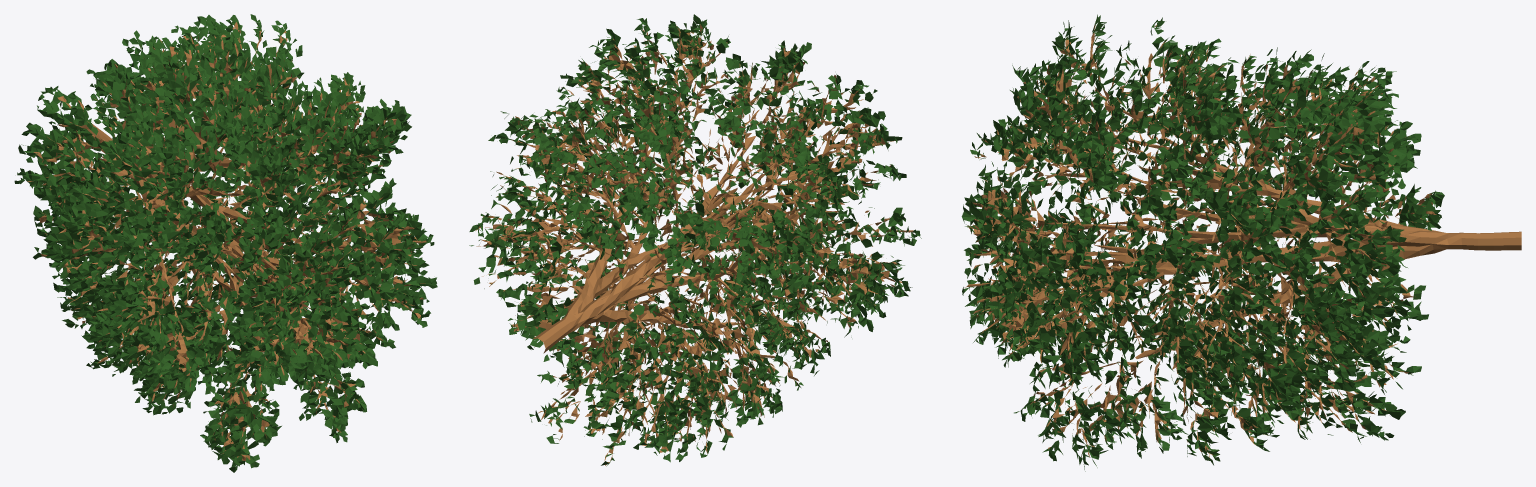
Rendered from lowpoly_tree_model_optimized_scaled.glb.
3 renders of one model, left to right at view 1: azimuth 30°, elevation 25°; view 2: azimuth 150°, elevation 25°; view 3: azimuth 270°, elevation 25°, orthographic. The views are drawn at different scales.
Parts seen in each view (by area): view 1: leaves, wood; view 2: leaves, wood; view 3: leaves, wood.
Boxes of the visible parts, box(x1,y1,x2,y2) form: leaves: box(14, 14, 437, 472); wood: box(27, 22, 426, 460); leaves: box(469, 14, 921, 466); wood: box(475, 24, 913, 465); leaves: box(961, 14, 1444, 471); wood: box(964, 25, 1521, 457).
Size of the model in its own units: 886 by 964 by 1183.
